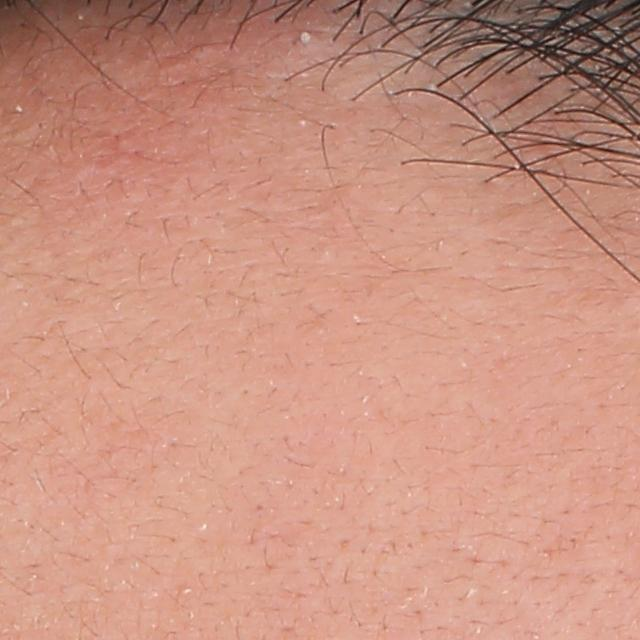pustule: (292, 25, 318, 48)
